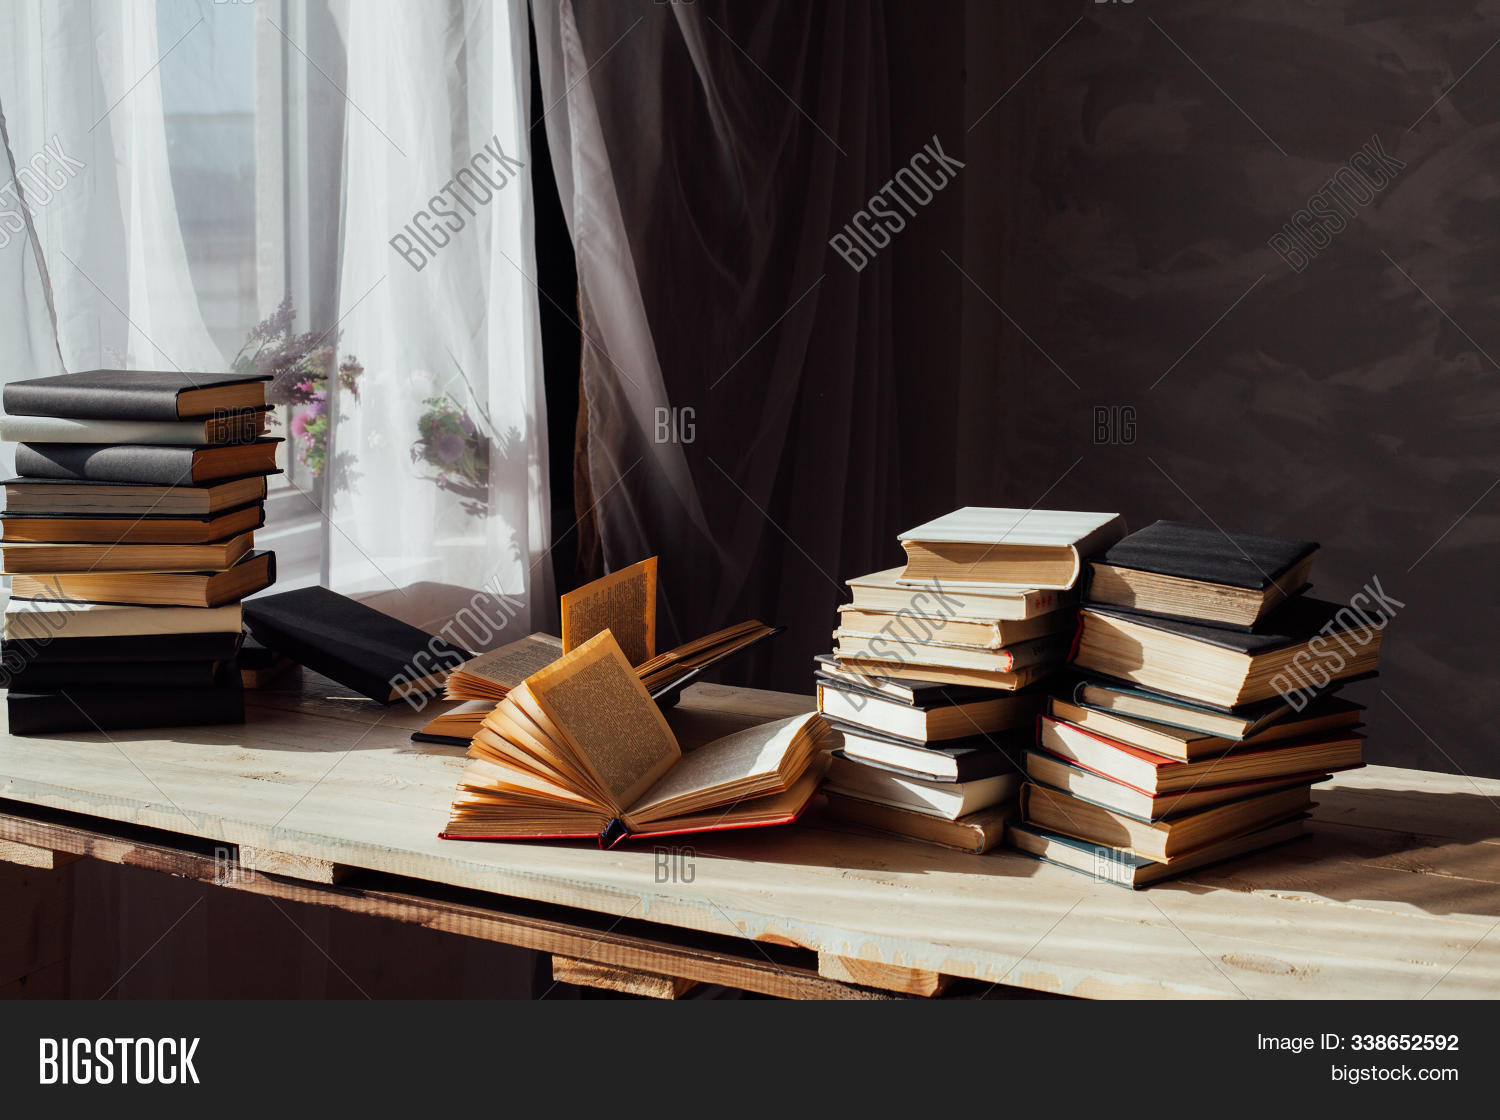book: (420, 632, 864, 872)
